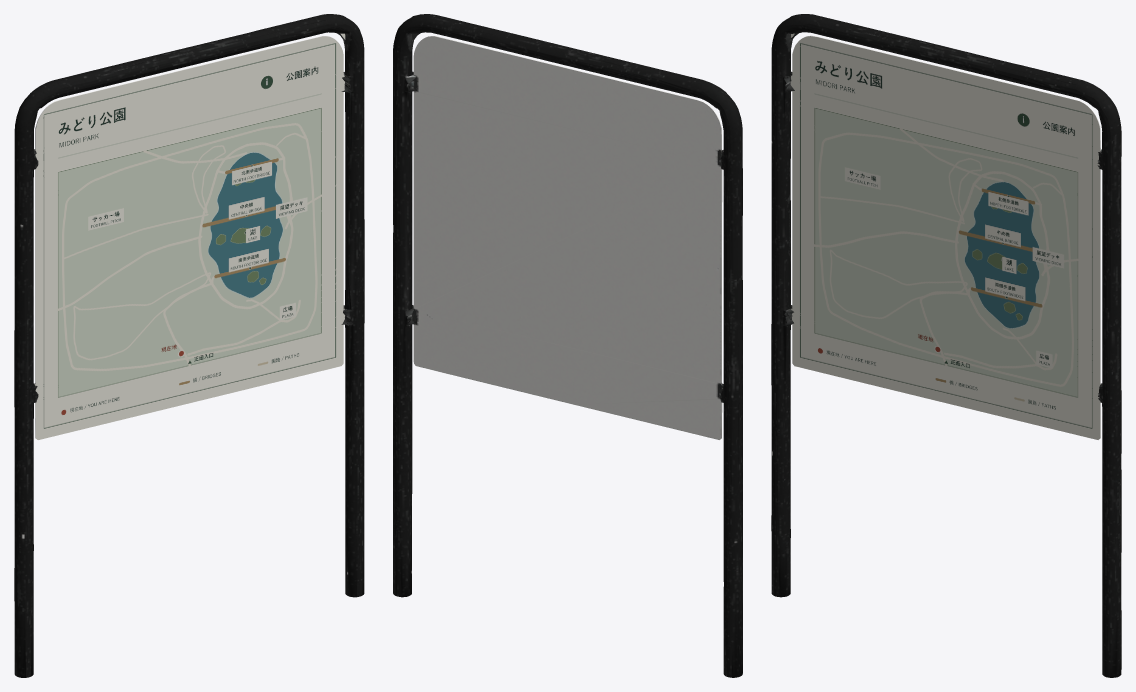
The model's file is midori_information_board.glb.
3 renders of one model, left to right at view 1: azimuth 30°, elevation 25°; view 2: azimuth 150°, elevation 25°; view 3: azimuth 330°, elevation 25°, orthographic.
Parts seen in each view (by area): view 1: Midori_Information_Board_Candidate_V2; view 2: Midori_Information_Board_Candidate_V2; view 3: Midori_Information_Board_Candidate_V2.
Boxes of the visible parts, box(x1,y1,x2,y2) form: Midori_Information_Board_Candidate_V2: box(14, 14, 364, 677); Midori_Information_Board_Candidate_V2: box(393, 14, 742, 677); Midori_Information_Board_Candidate_V2: box(771, 14, 1121, 677).
Bounding box in the file's own units: 1.26 × 2.03 × 0.0605.
2 materials, 2 textured.
